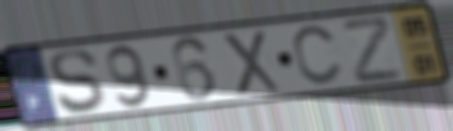6: (171, 34, 219, 104)
9: (103, 42, 152, 111)
C: (290, 22, 346, 88)
S: (47, 47, 107, 117)
X: (218, 28, 284, 98)
Z: (339, 13, 406, 87)
